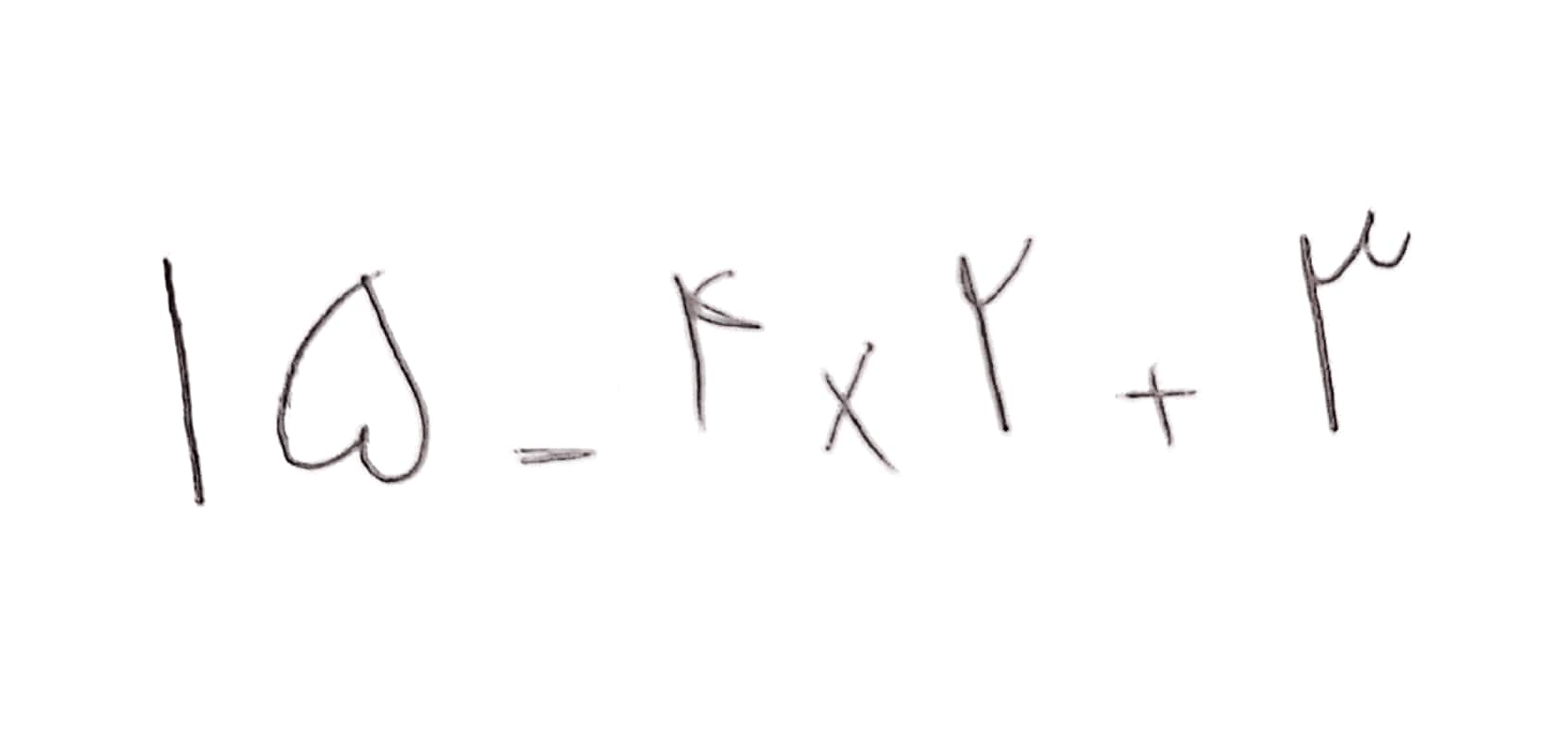character: (276, 276, 431, 482), (1300, 211, 1410, 434), (675, 268, 761, 433), (959, 236, 1031, 433), (163, 260, 205, 504), (823, 342, 896, 471), (1125, 368, 1198, 447), (510, 447, 596, 466)
